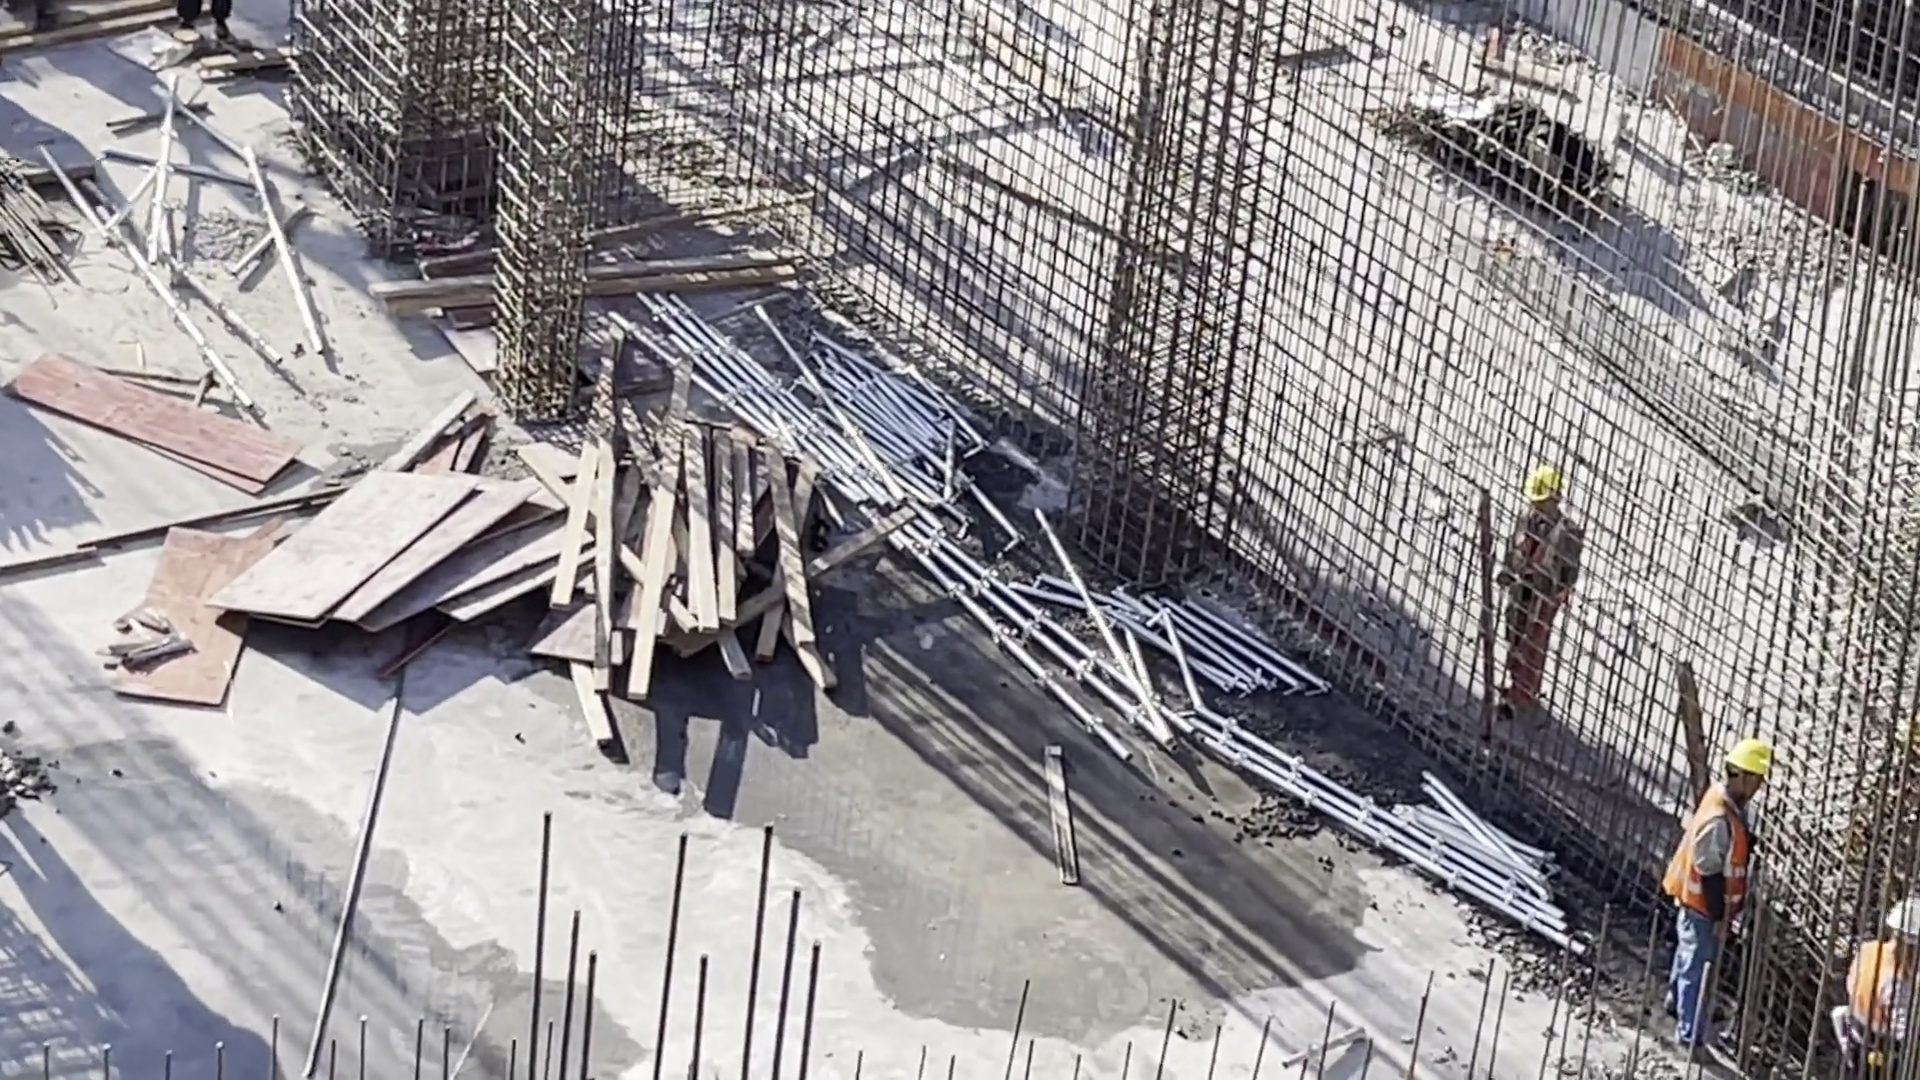board: (209, 471, 573, 637)
helmet: (1719, 742, 1780, 800), (1880, 884, 1920, 945), (1538, 450, 1580, 505)
person: (1656, 720, 1777, 1034), (1489, 463, 1580, 719), (1844, 885, 1920, 1068)
scaffold: (723, 317, 964, 504), (1043, 556, 1332, 709), (1399, 784, 1581, 949)
vest: (1510, 513, 1577, 610), (1684, 789, 1743, 898), (1855, 930, 1915, 1029)
wood: (566, 371, 823, 718)
